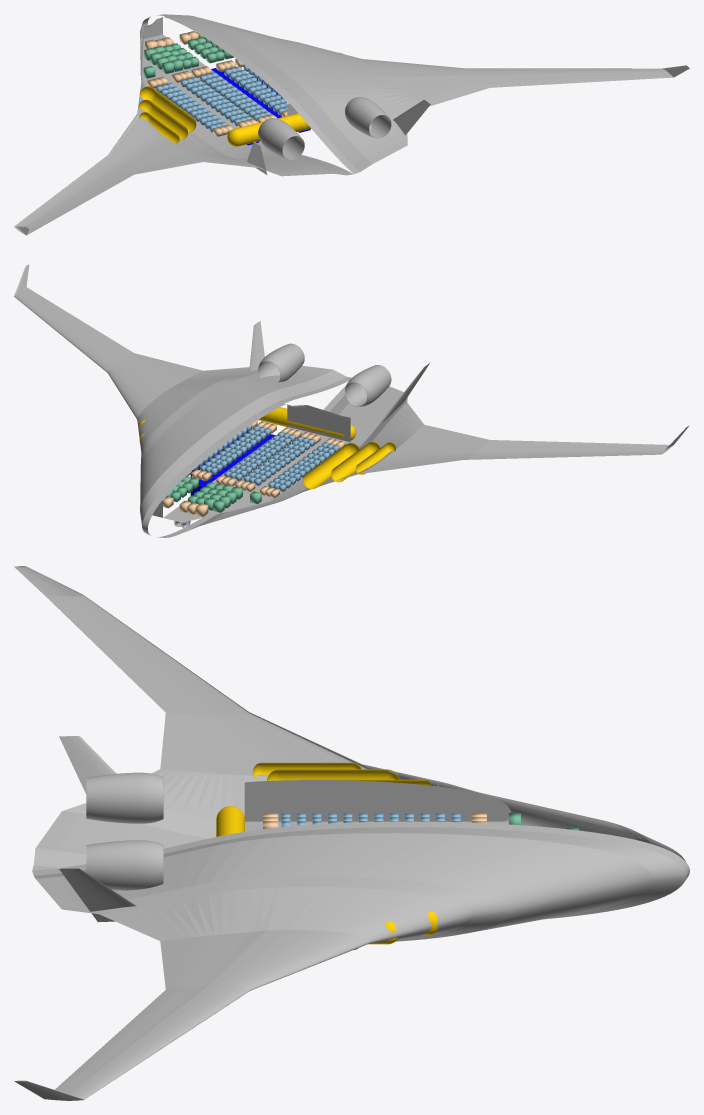
File: BWB_LH2.gltf
3 views of the same model, one above another, from view 1: azimuth 30°, elevation 25°; view 2: azimuth 150°, elevation 25°; view 3: azimuth 270°, elevation 25° (orthographic). The views are drawn at different scales.
Parts seen in each view (by area): view 1: Renderer Node; view 2: Renderer Node; view 3: Renderer Node.
Boxes of the visible parts, left/top/right/bottom form: Renderer Node: left=14, top=14, right=689, bottom=235; Renderer Node: left=14, top=264, right=689, bottom=537; Renderer Node: left=14, top=566, right=689, bottom=1100.
Bounding box in the file's own units: 64 × 6.81 × 35.54.
